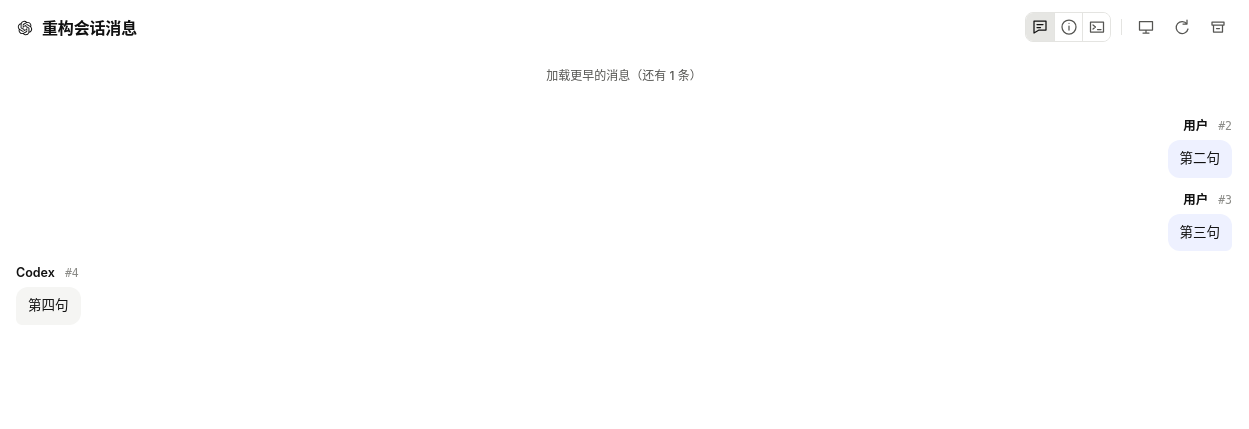
Test: keeps the conversation ordered by ordinal even when a page repeats or arrives scrambled
Click the button "加载更早的消息（还有 1 条）" at [624, 76], box [535, 62, 713, 90]
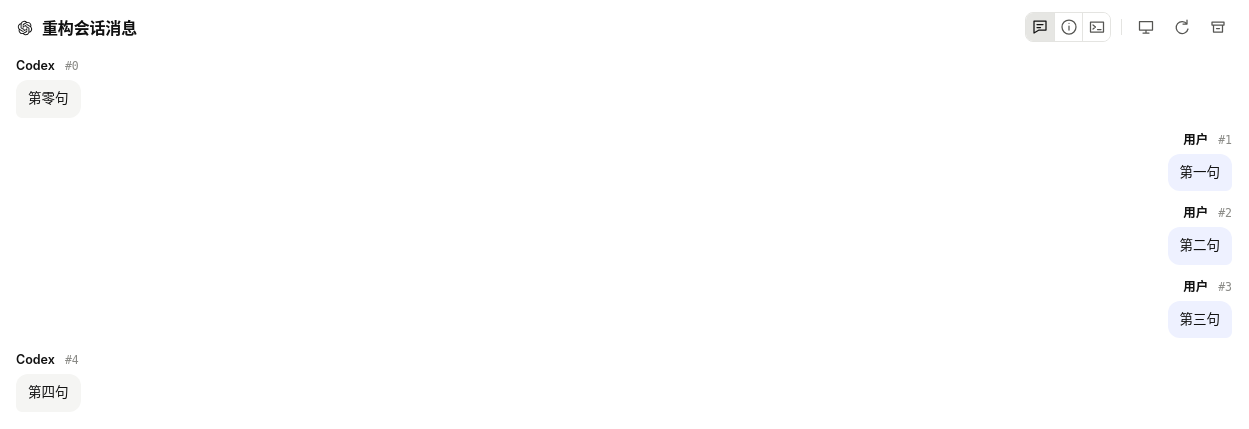
Check: the button "第一句" is shown, box [1168, 154, 1232, 191]
